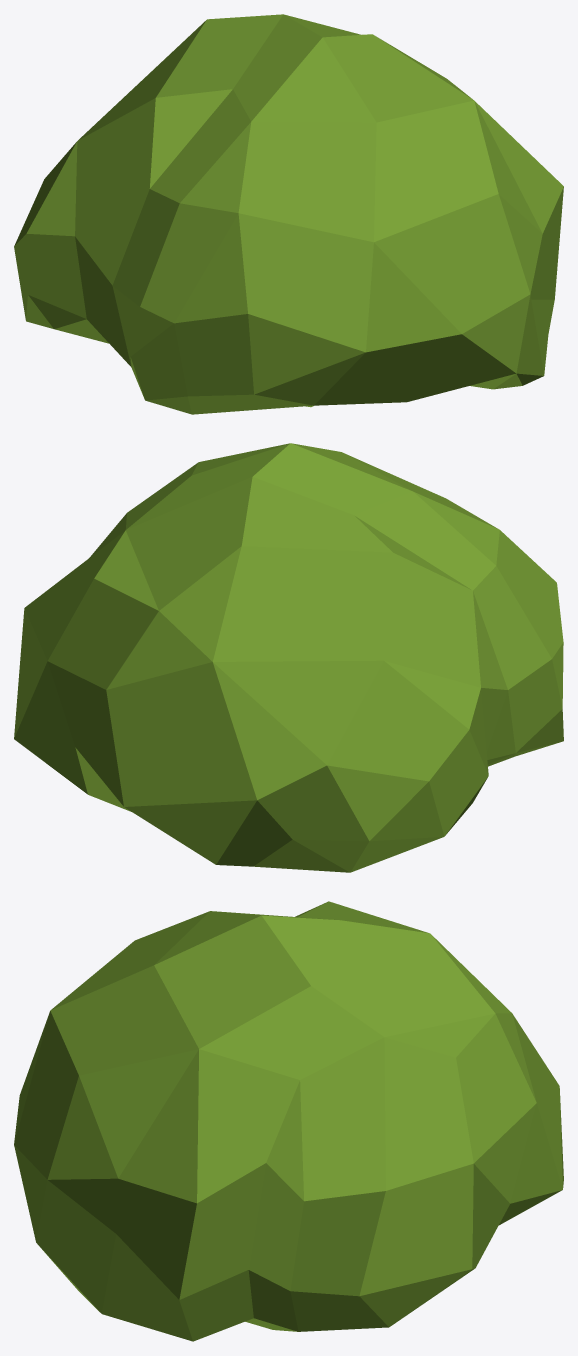
File: bush_2.glb
3 renders of one model, top to bottom at view 1: azimuth 30°, elevation 25°; view 2: azimuth 150°, elevation 25°; view 3: azimuth 270°, elevation 25°, orthographic. The views are drawn at different scales.
Visible parts, largest first — view 1: bush_2; view 2: bush_2; view 3: bush_2.
Boxes of the visible parts, box(x1,y1,x2,y2) form: bush_2: box(14, 14, 563, 414); bush_2: box(14, 443, 563, 872); bush_2: box(14, 901, 563, 1341).
Size of the model in its own units: 6.2 by 4.4 by 6.29.
1 material, 1 textured.
